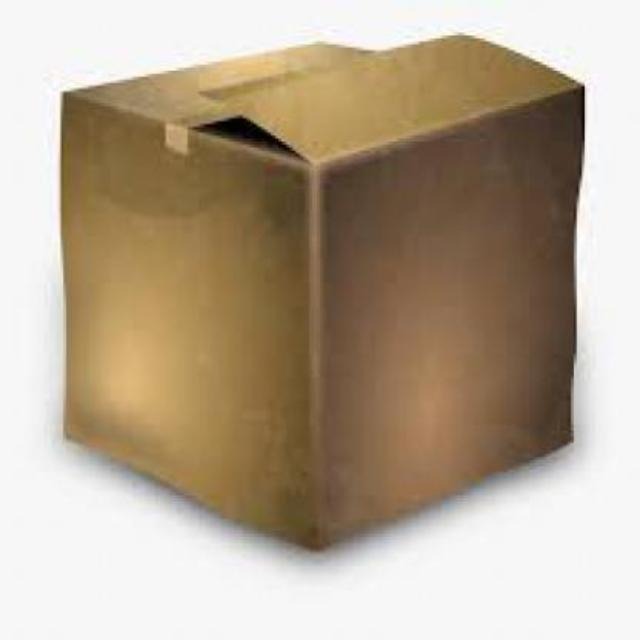cardboard_box: (58, 33, 578, 551)
